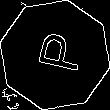P_W: (26, 31, 84, 79)
